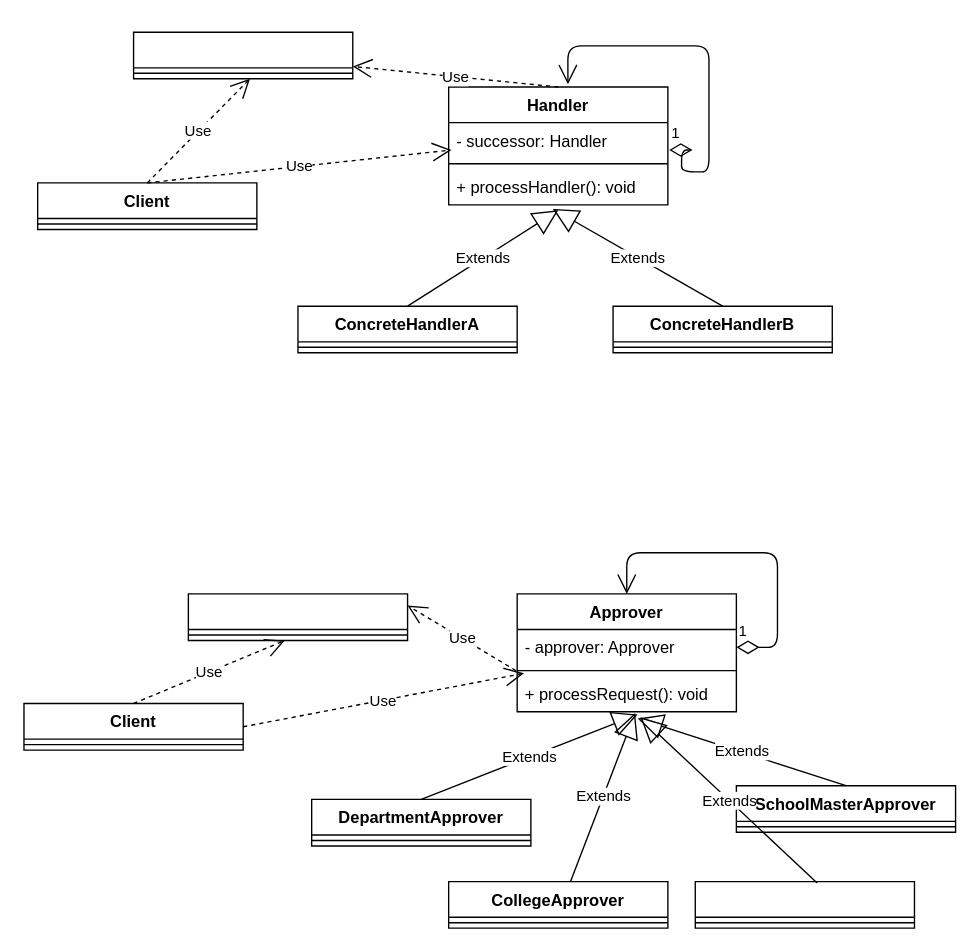
Some shapes in this 980 by 952 pixel diagram are drawn without their labels. The centre of each missing label's shape, as x and y in pixels:
"PurchaseRequest" goes at point 297,616.
"Request" goes at point 242,55.
"ViceSchoolMasterApprover" goes at point 804,904.
